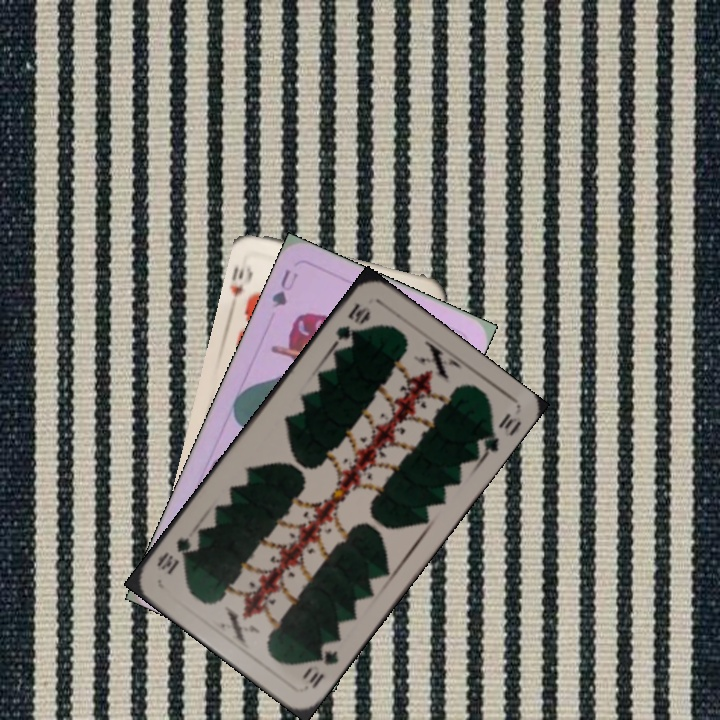G10: (329, 299, 373, 348), (301, 646, 342, 692)
GU: (267, 265, 301, 311)
H10: (226, 261, 256, 311)
